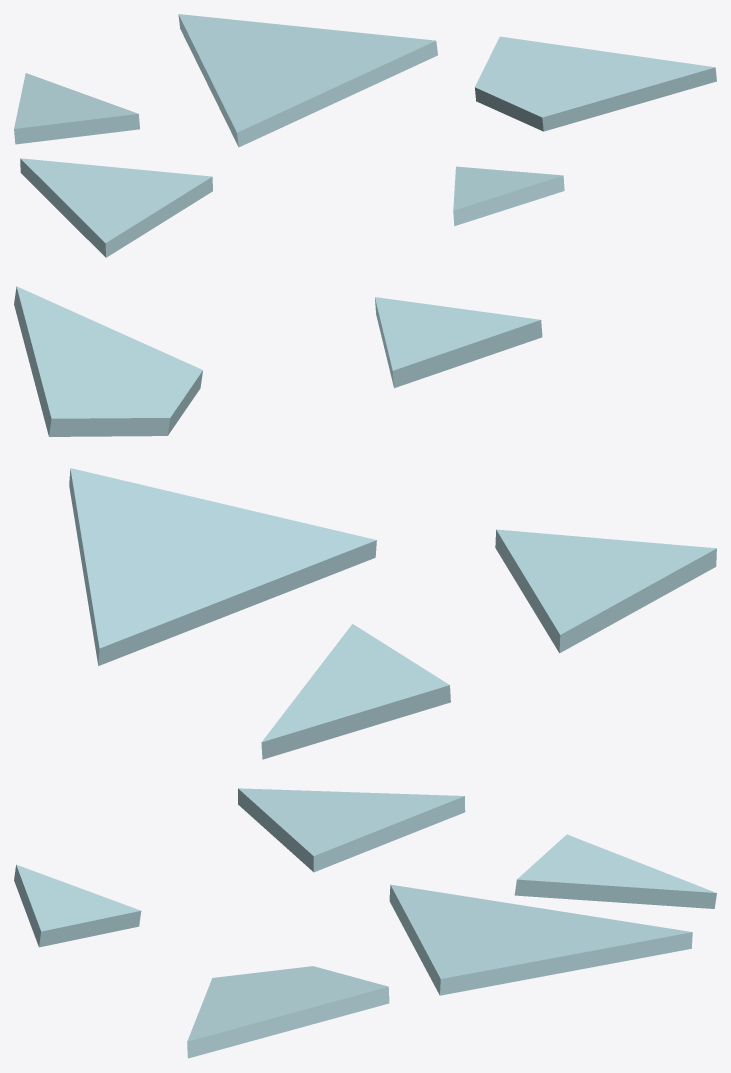
File: glass-shards.glb
The picture shows the model from 3 angles, top to bottom: view 1: azimuth 30°, elevation 25°; view 2: azimuth 150°, elevation 25°; view 3: azimuth 270°, elevation 25°; orthographic projection. The views are drawn at different scales.
Parts seen in each view (by area): view 1: p; view 2: p; view 3: p.
Part boxes in pixels (x1=…): p: x1=14, y1=14, x2=716, y2=257; p: x1=14, y1=286, x2=716, y2=759; p: x1=14, y1=788, x2=716, y2=1058.
Size of the model in its own units: 1.45 by 0.2176 by 1.39.
